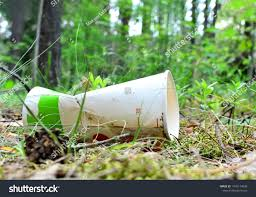paper_cup: (25, 70, 182, 150)
